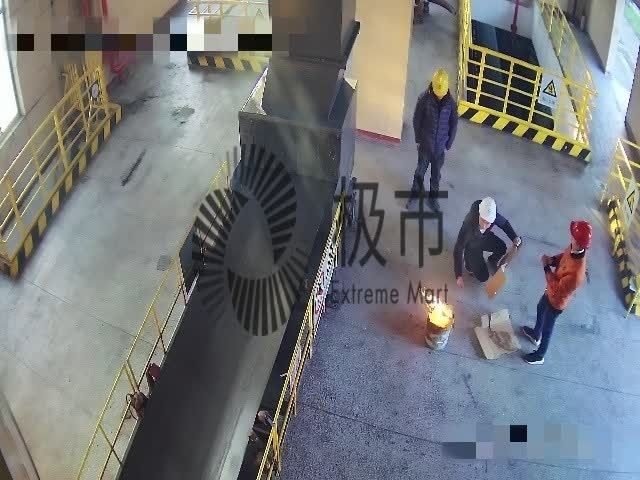fire: (417, 285, 454, 331)
